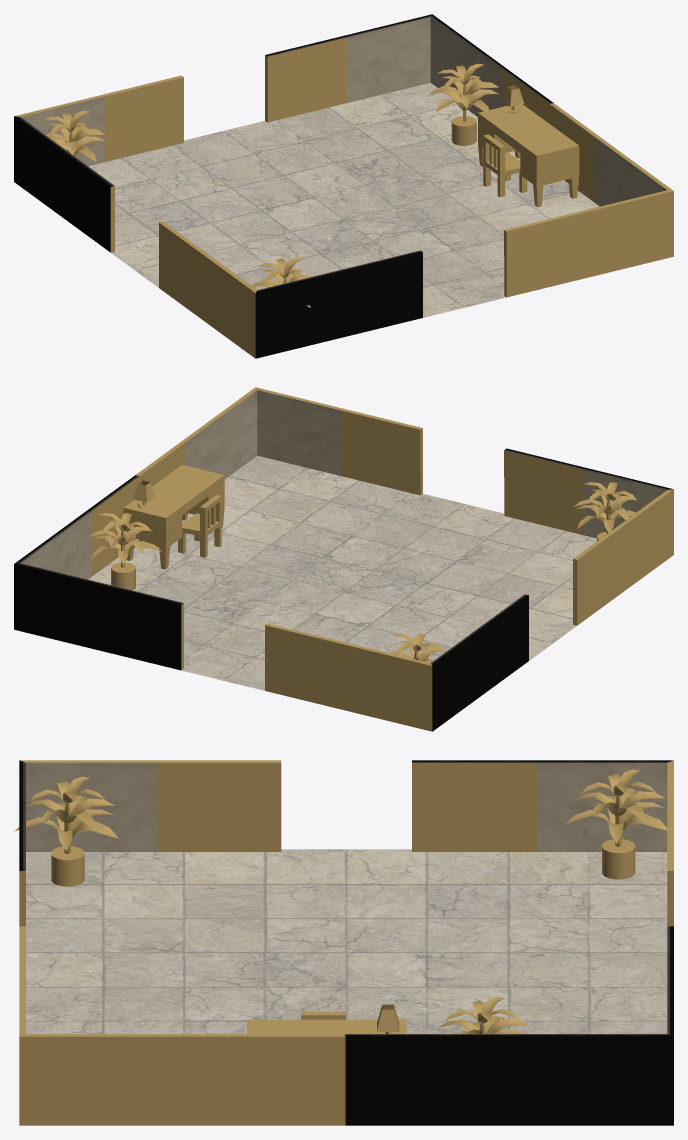
File: Room_2Exit02_Type01.fbx
The picture shows the model from 3 angles, top to bottom: view 1: azimuth 30°, elevation 25°; view 2: azimuth 150°, elevation 25°; view 3: azimuth 270°, elevation 25°; orthographic projection. The views are drawn at different scales.
Visible parts, largest first — view 1: Room1x1_3Exits1, Desk2, Plant015, Chair03, Plant014, Plant012; view 2: Room1x1_3Exits1, Desk2, Plant015, Plant012, Chair03, Plant014; view 3: Room1x1_3Exits1, Plant014, Plant012, Desk2, Plant015.
Part boxes in pixels (x1,y1,x2,y2): Room1x1_3Exits1: (14, 14, 673, 358); Desk2: (478, 85, 579, 207); Plant015: (428, 63, 498, 145); Chair03: (483, 134, 527, 197); Plant014: (43, 110, 105, 161); Plant012: (251, 257, 312, 307); Room1x1_3Exits1: (14, 387, 673, 731); Desk2: (123, 465, 224, 569); Plant015: (88, 513, 161, 590); Plant012: (573, 482, 637, 540); Chair03: (178, 495, 221, 557); Plant014: (388, 633, 445, 662); Room1x1_3Exits1: (19, 760, 673, 1125); Plant014: (565, 769, 667, 879); Plant012: (14, 776, 118, 886); Desk2: (247, 1004, 406, 1033); Plant015: (439, 996, 529, 1033).
Size of the model in its own units: 10 by 1.73 by 10.08.
